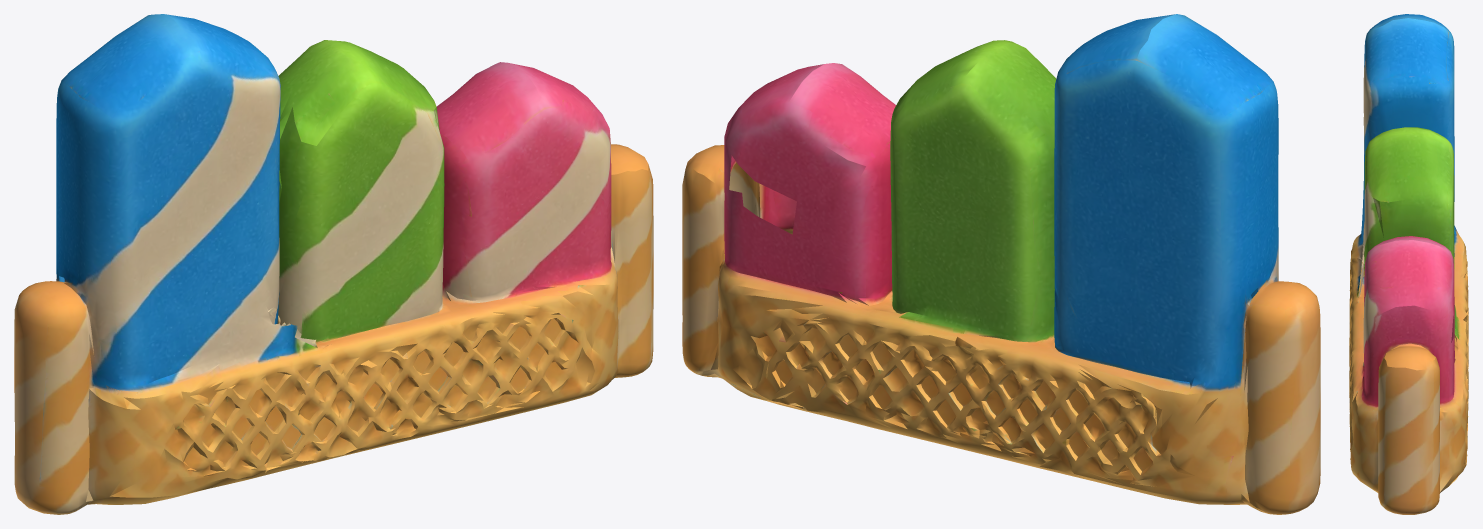
File: icepop-xylophone.glb
3 renders of one model, left to right at view 1: azimuth 30°, elevation 25°; view 2: azimuth 150°, elevation 25°; view 3: azimuth 270°, elevation 25°, orthographic. The views are drawn at different scales.
Visible parts, largest first — view 1: Mesh_0; view 2: Mesh_0; view 3: Mesh_0.
Boxes of the visible parts, bbox=[...] form: Mesh_0: bbox=[14, 14, 653, 514]; Mesh_0: bbox=[682, 14, 1320, 514]; Mesh_0: bbox=[1349, 14, 1468, 514].
Bounding box in the file's own units: 1.43 × 1 × 0.325.
1 material, 1 textured.
